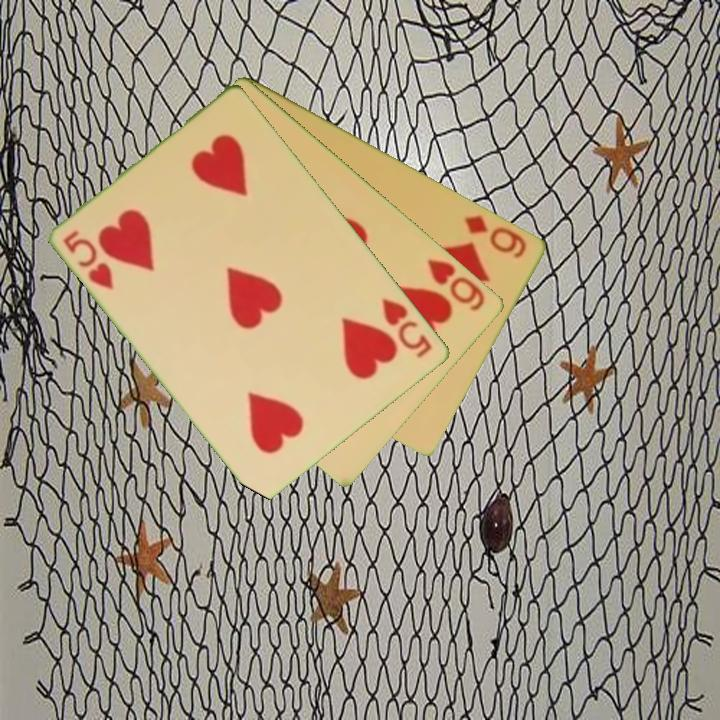5h: (378, 295, 436, 362), (60, 226, 118, 293)
6d: (461, 211, 530, 261)
6h: (424, 255, 489, 314)
